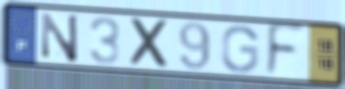3: (88, 16, 121, 66)
9: (178, 21, 213, 72)
F: (264, 22, 308, 80)
G: (219, 23, 261, 75)
N: (39, 11, 81, 65)
X: (128, 15, 172, 70)
